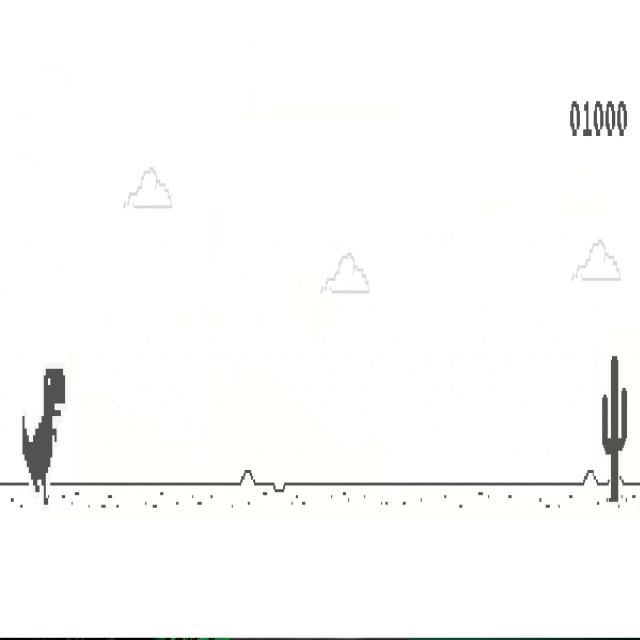cacto: (602, 354, 627, 503)
dino: (21, 366, 66, 506)
